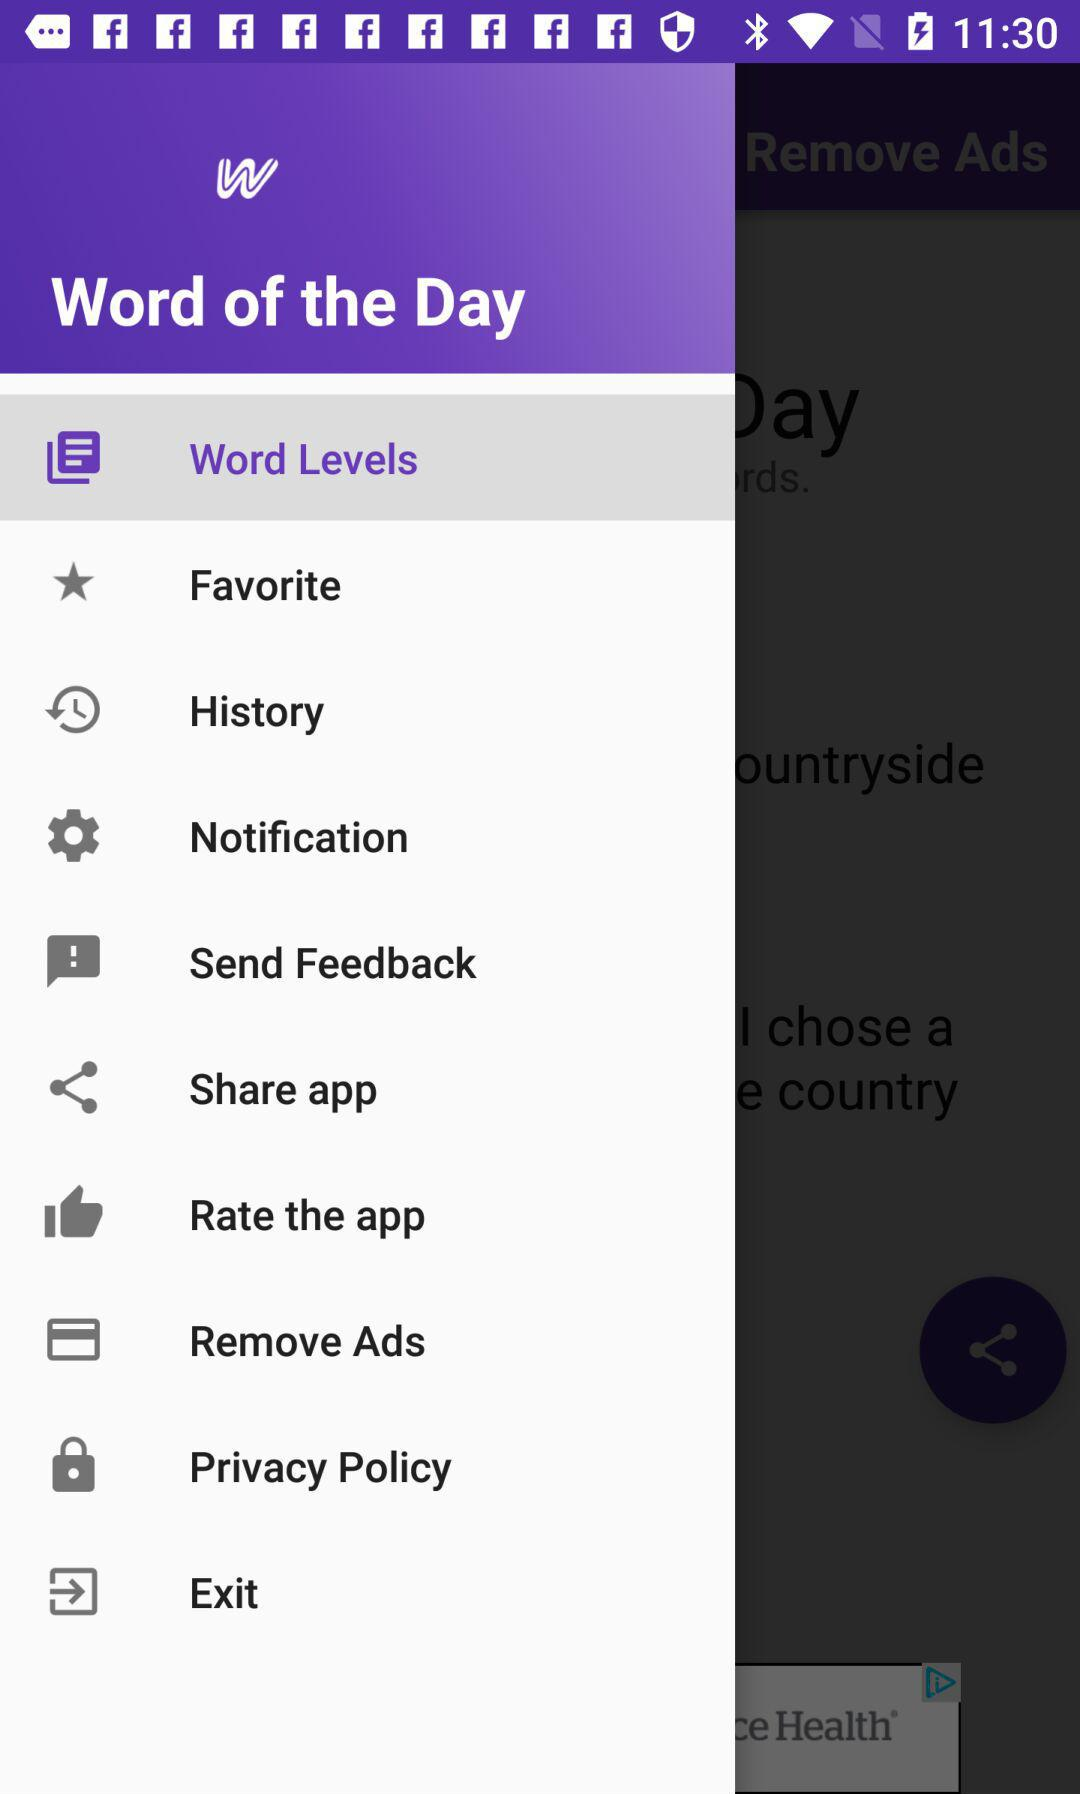Drawer: (1, 63, 735, 1794)
Icon: (44, 1184, 105, 1239), (47, 934, 102, 989), (47, 431, 102, 486), (47, 809, 101, 862), (45, 686, 102, 736), (50, 1061, 99, 1115), (53, 1436, 97, 1493), (47, 1319, 102, 1362), (50, 1567, 99, 1616), (53, 561, 96, 604)
Image: (217, 158, 281, 201)
Text: (51, 274, 527, 342), (191, 1449, 454, 1493), (190, 944, 479, 982), (191, 1197, 427, 1240), (191, 1322, 427, 1360), (190, 441, 420, 478), (190, 1071, 378, 1115), (191, 819, 409, 853), (191, 695, 325, 737), (191, 566, 343, 604), (192, 1576, 260, 1609)
UpperTaskBar: (1, 1, 1080, 64)
